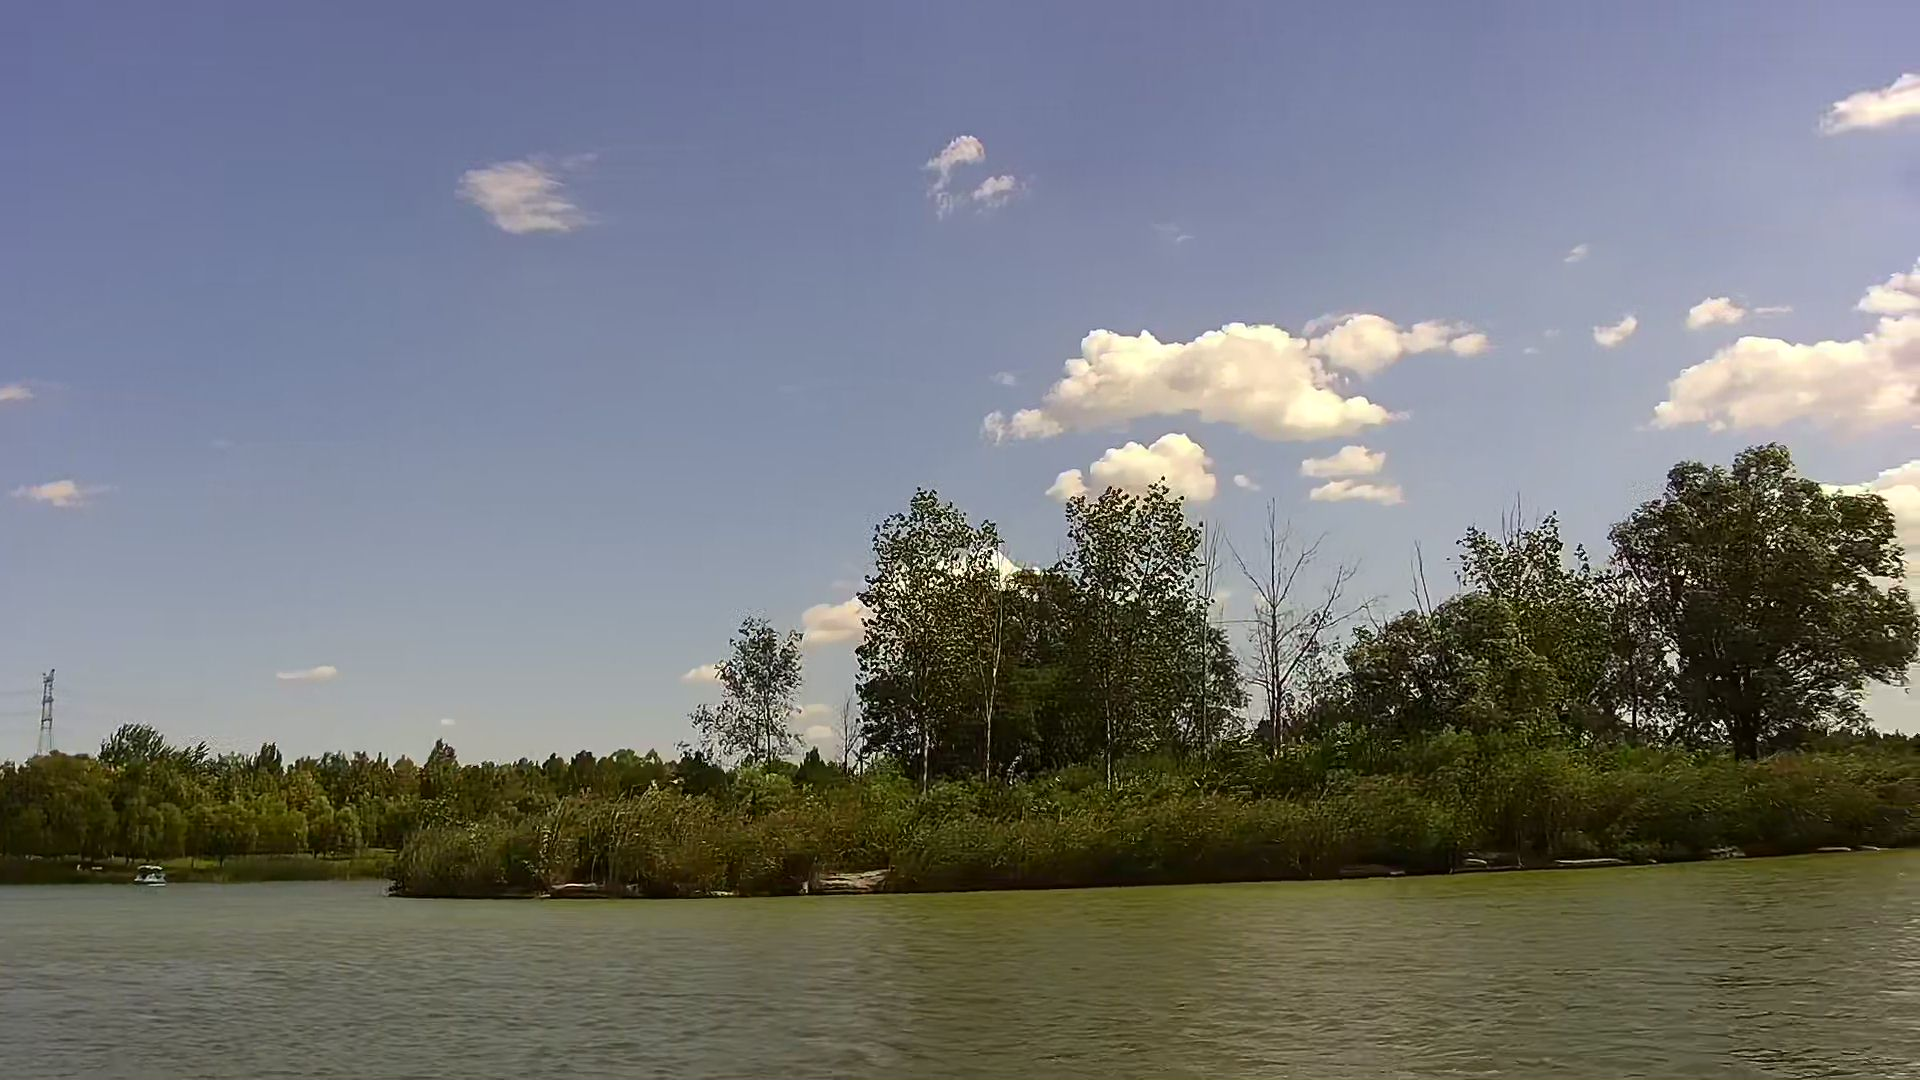boat: (133, 862, 167, 885)
rock: (811, 866, 891, 895), (546, 880, 616, 899)
